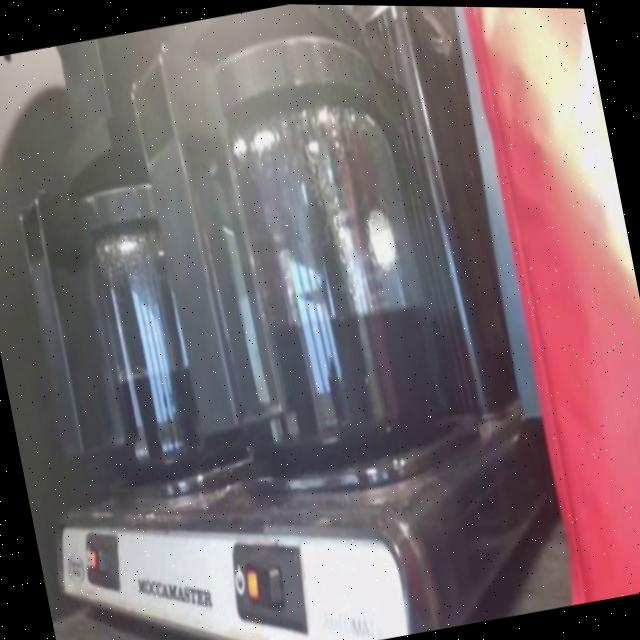coffee: (190, 116, 447, 464), (70, 228, 248, 489)
